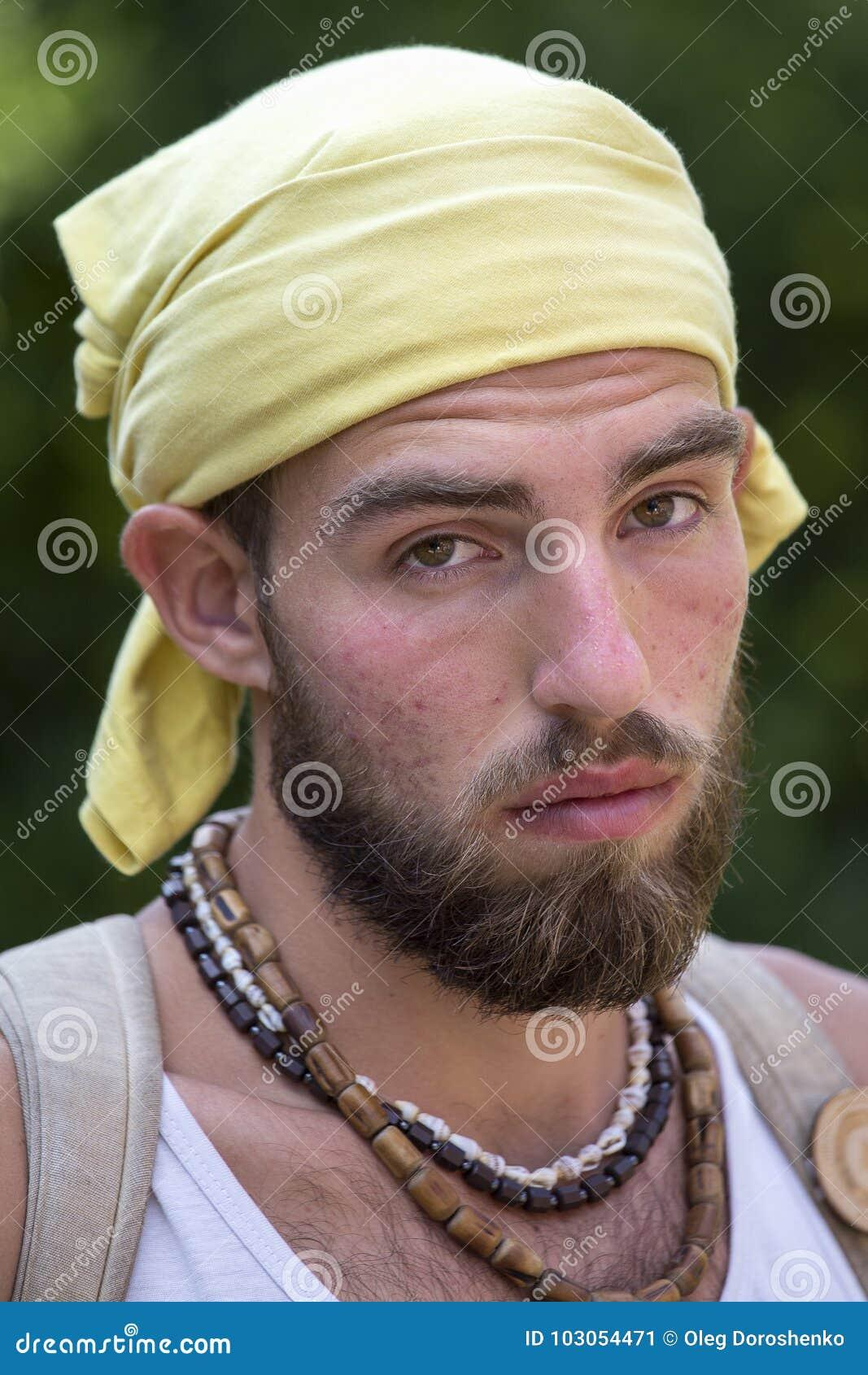cap: (33, 12, 834, 561)
